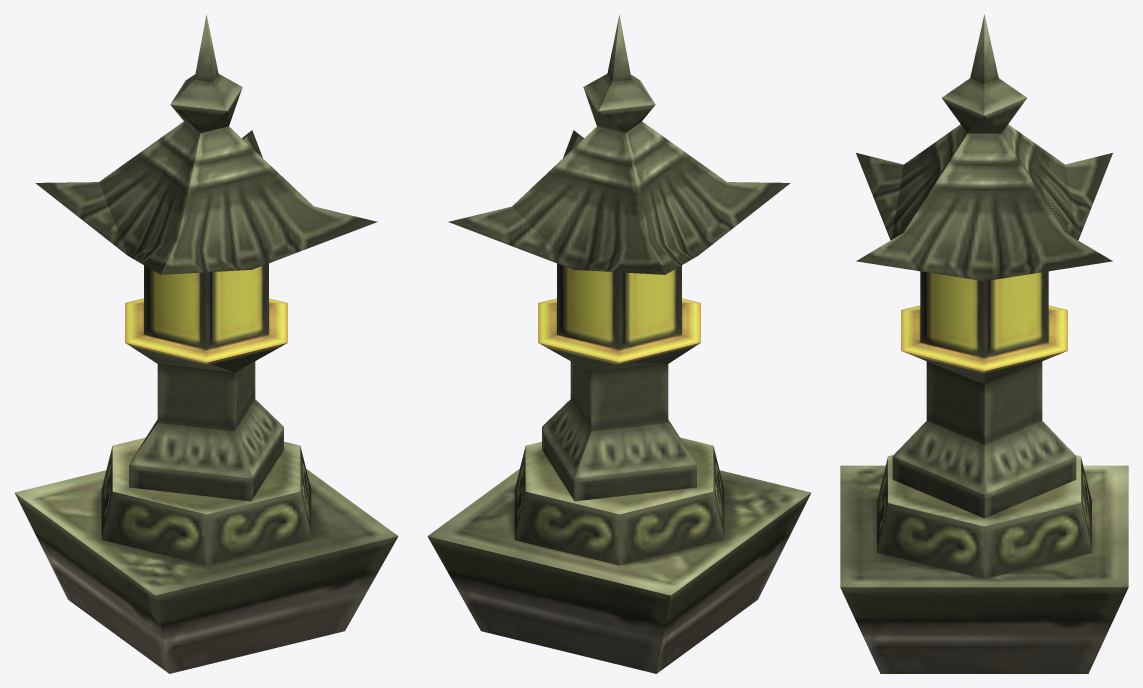
Rendered from Obj_Light.FBX.
3 views of the same model, side by side, from view 1: azimuth 30°, elevation 25°; view 2: azimuth 150°, elevation 25°; view 3: azimuth 270°, elevation 25° (orthographic). The views are drawn at different scales.
Visible parts, largest first — view 1: Object05; view 2: Object05; view 3: Object05.
Boxes of the visible parts, x1,y1,x2,y2 form: Object05: (15, 14, 398, 673); Object05: (427, 14, 810, 673); Object05: (840, 14, 1128, 673).
Size of the model in its own units: 1.75 by 4.13 by 1.75.
